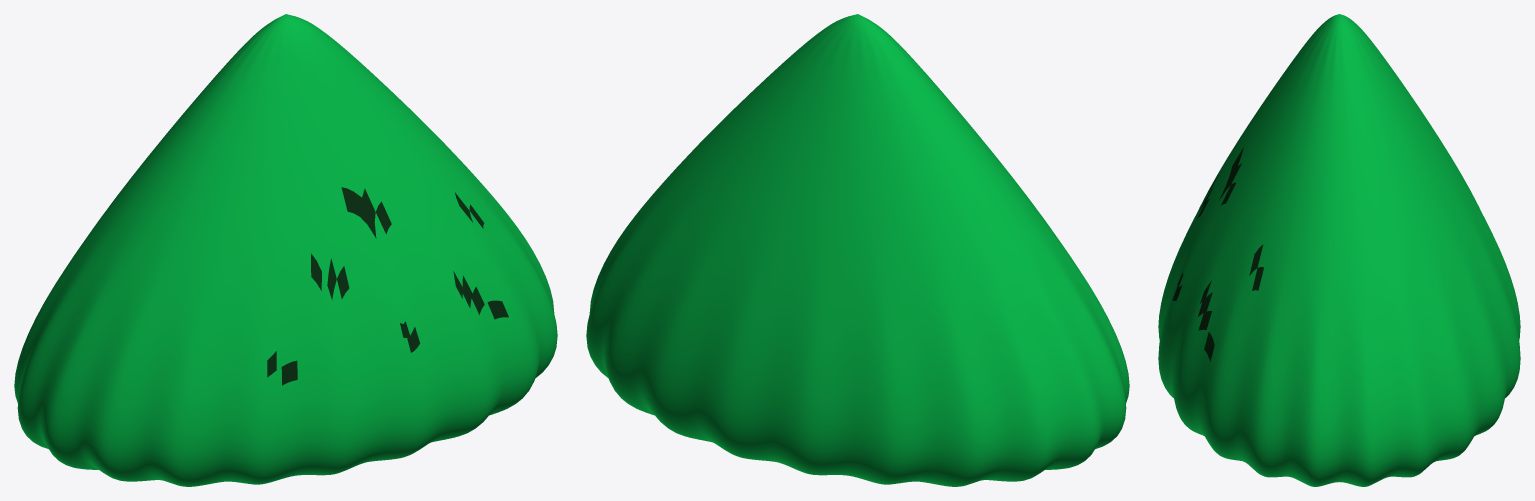
Rendered from block_type_pCylinder1.fbx.
The picture shows the model from 3 angles, left to right: view 1: azimuth 30°, elevation 25°; view 2: azimuth 150°, elevation 25°; view 3: azimuth 270°, elevation 25°; orthographic projection. The views are drawn at different scales.
Parts seen in each view (by area): view 1: pCylinder1; view 2: pCylinder1; view 3: pCylinder1.
Boxes of the visible parts, x1=… form: pCylinder1: x1=14, y1=14, x2=557, y2=486; pCylinder1: x1=586, y1=14, x2=1129, y2=486; pCylinder1: x1=1158, y1=14, x2=1520, y2=486.
Bounding box in the file's own units: 7.14 × 5.44 × 4.67.
